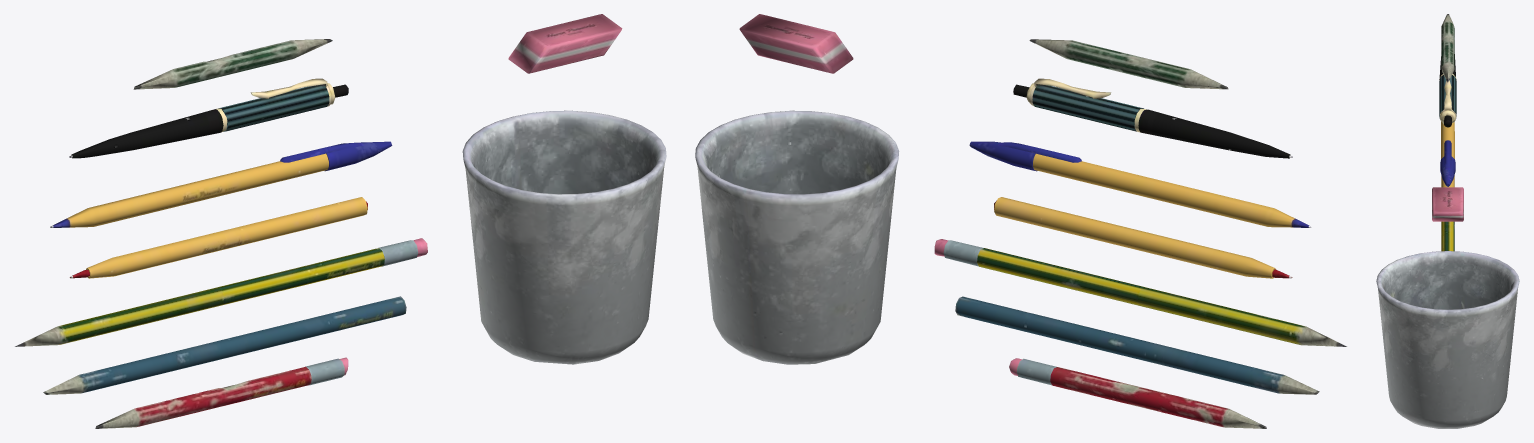
The model's file is stationery_supplies.glb.
The picture shows the model from 3 angles, left to right: view 1: azimuth 30°, elevation 25°; view 2: azimuth 150°, elevation 25°; view 3: azimuth 270°, elevation 25°; orthographic projection. The views are drawn at different scales.
Visible parts, largest first — view 1: stationery_supplies_pen_red; view 2: stationery_supplies_pen_red; view 3: stationery_supplies_pen_red.
Part boxes in pixels (box(x1,y1,x2,y2)): stationery_supplies_pen_red: box(15, 14, 666, 428); stationery_supplies_pen_red: box(695, 14, 1346, 428); stationery_supplies_pen_red: box(1376, 14, 1519, 428).
Bounding box in the file's own units: 0.3018 × 0.1644 × 0.0836.
1 material, 1 textured.
